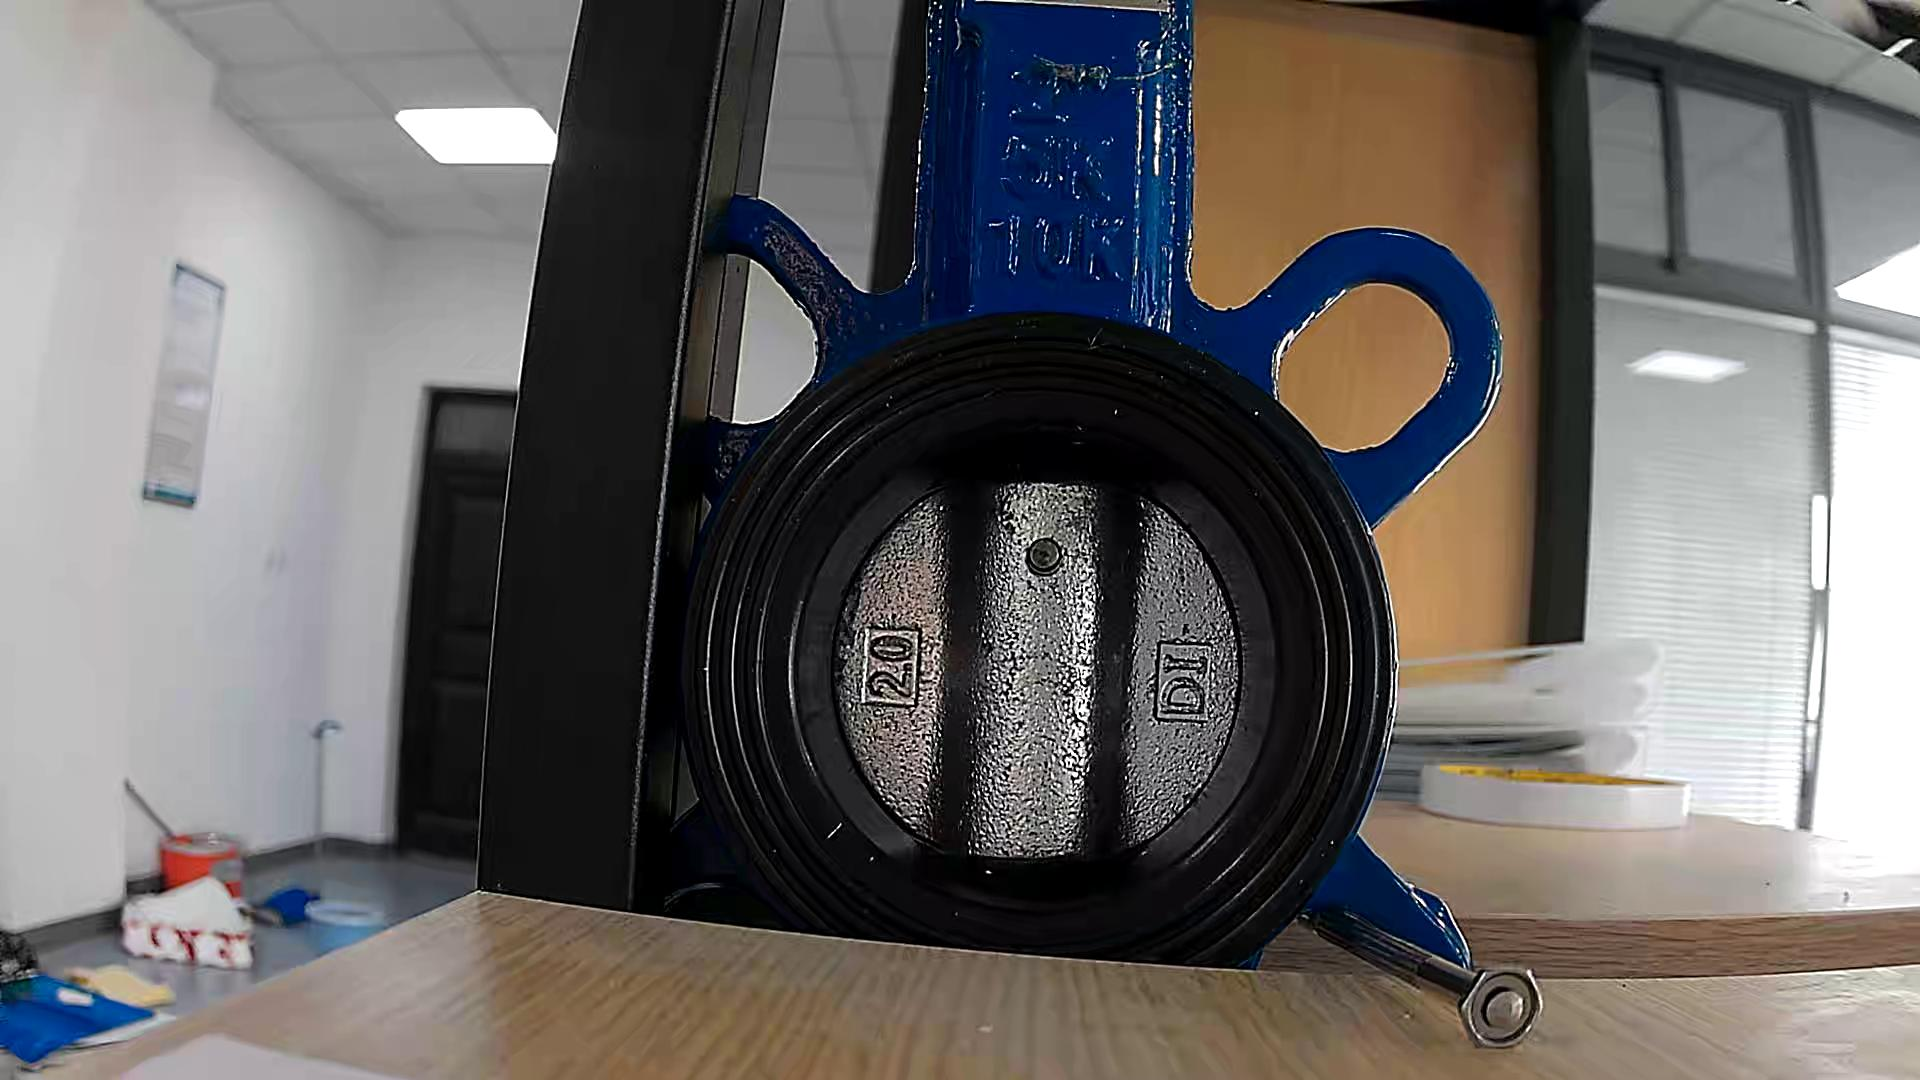valve: (836, 480, 1241, 861)
